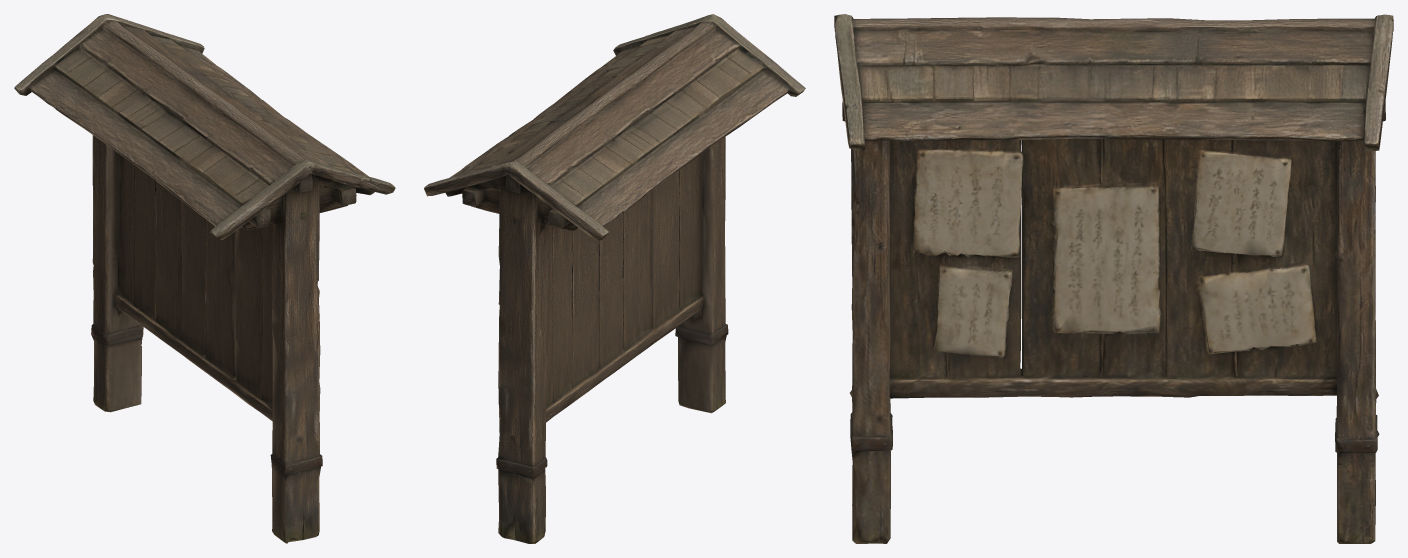
The model's file is notice.glb.
3 views of the same model, side by side, from view 1: azimuth 30°, elevation 25°; view 2: azimuth 150°, elevation 25°; view 3: azimuth 270°, elevation 25° (orthographic). The views are drawn at different scales.
Parts seen in each view (by area): view 1: tripo_node_2aecf4db-f158-4962-8c69-e7b8cc2b98a9; view 2: tripo_node_2aecf4db-f158-4962-8c69-e7b8cc2b98a9; view 3: tripo_node_2aecf4db-f158-4962-8c69-e7b8cc2b98a9.
Boxes of the visible parts, left/top/right/bottom form: tripo_node_2aecf4db-f158-4962-8c69-e7b8cc2b98a9: left=14, top=14, right=395, bottom=543; tripo_node_2aecf4db-f158-4962-8c69-e7b8cc2b98a9: left=424, top=14, right=805, bottom=543; tripo_node_2aecf4db-f158-4962-8c69-e7b8cc2b98a9: left=834, top=14, right=1393, bottom=543.
Size of the model in its own units: 1.16 by 2.3 by 2.25.
1 material, 1 textured.
